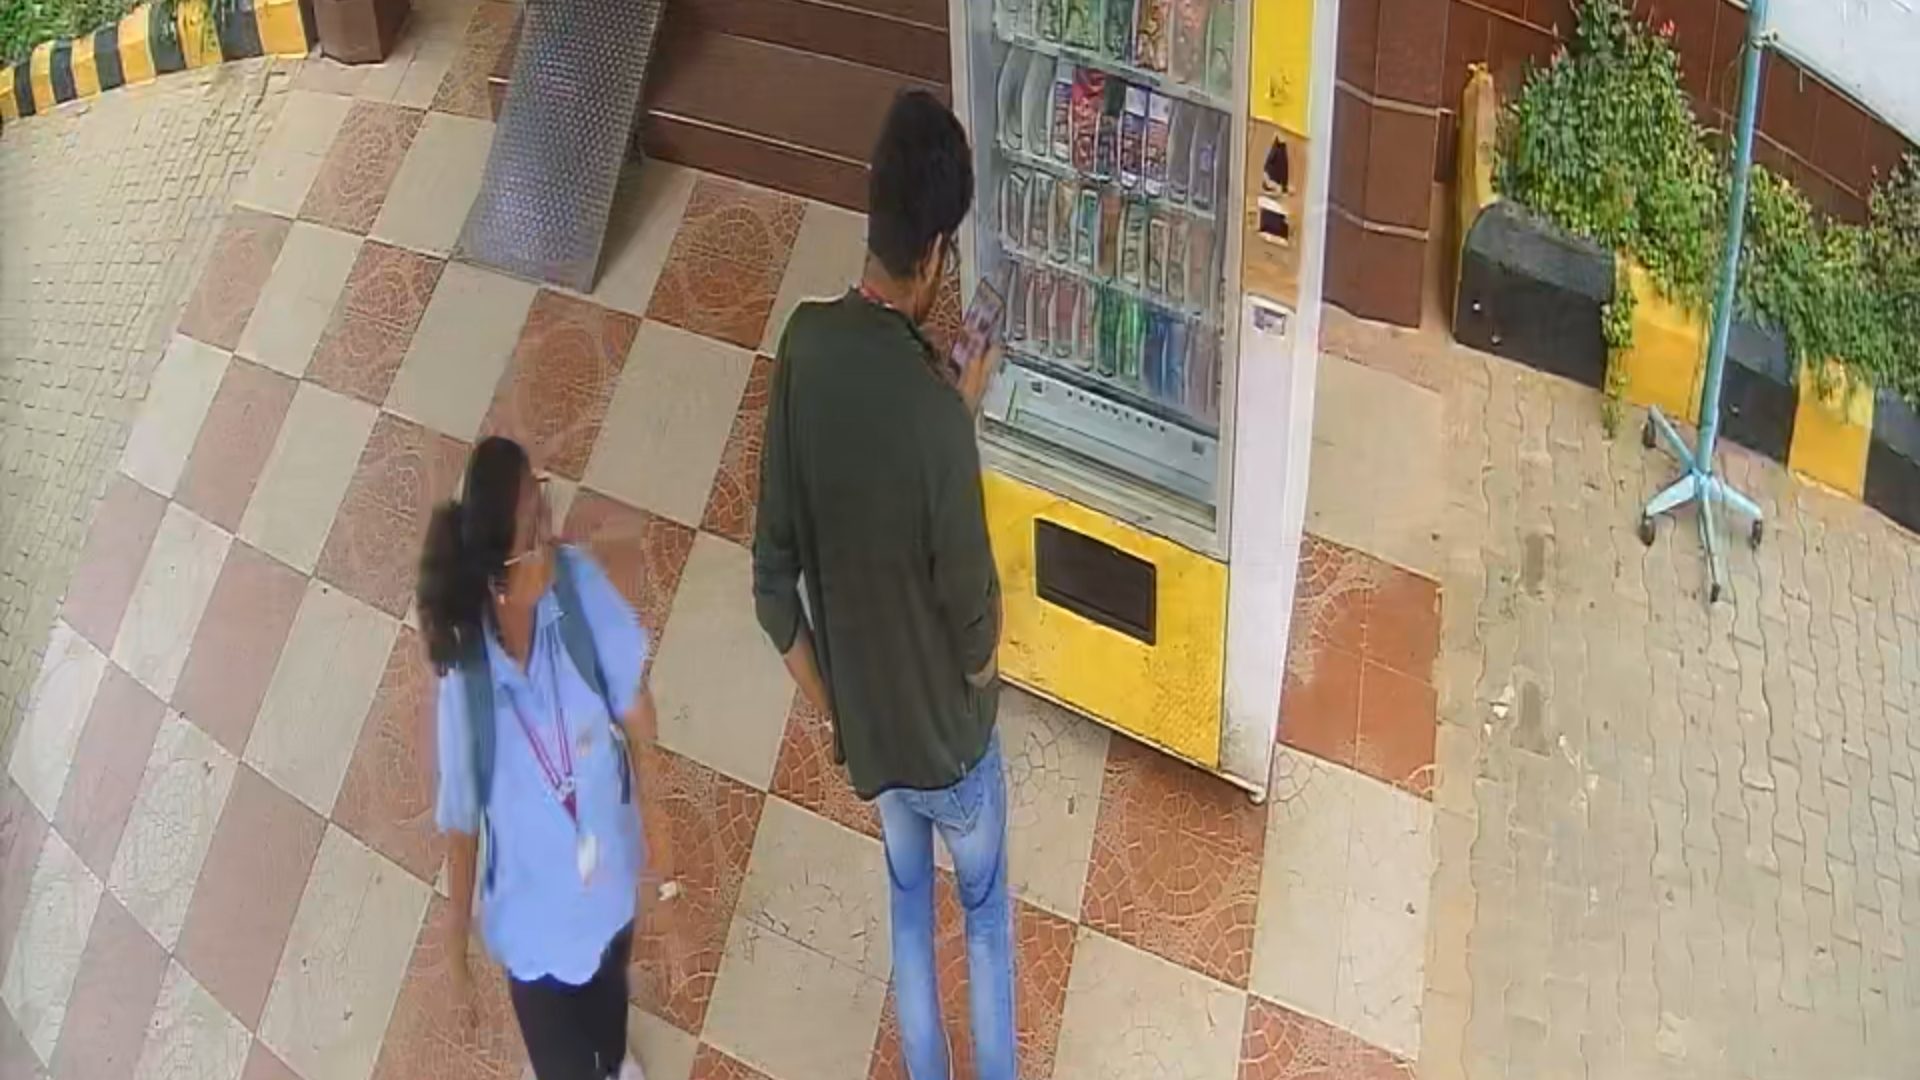not intruder: (396, 426, 683, 1080)
